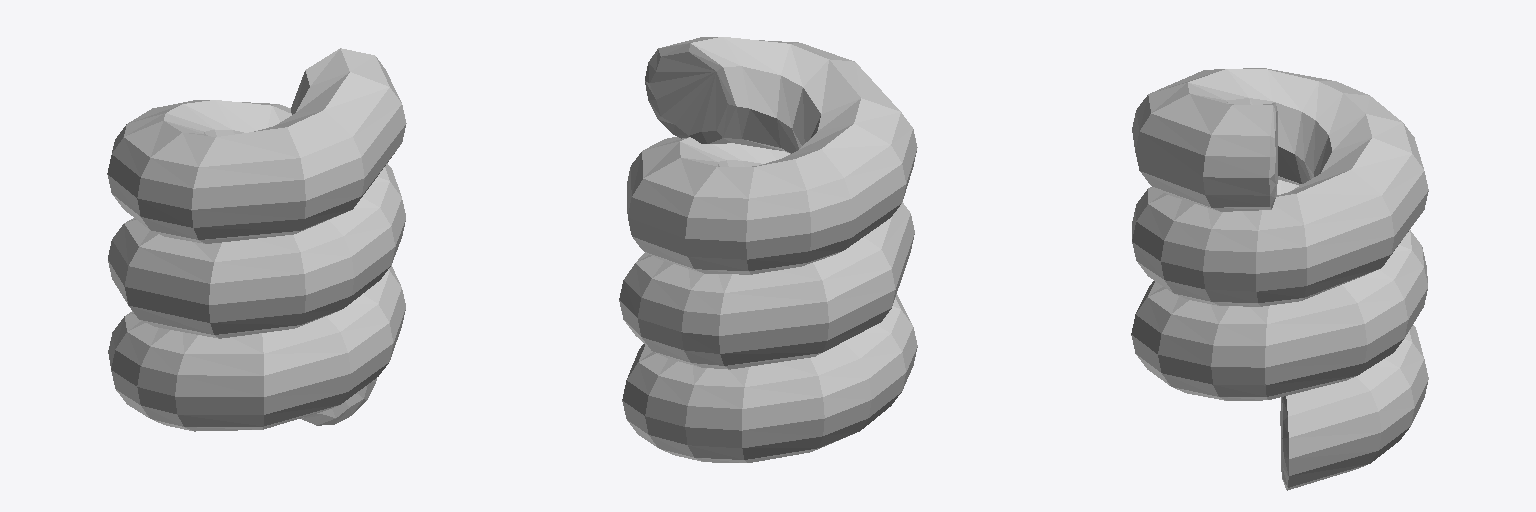
The model's file is helix_97.5.obj.
The picture shows the model from 3 angles: view 1: azimuth 30°, elevation 25°; view 2: azimuth 150°, elevation 25°; view 3: azimuth 270°, elevation 25°; orthographic projection.
Parts seen in each view (by area): view 1: helix:pHelix1; view 2: helix:pHelix1; view 3: helix:pHelix1.
Boxes of the visible parts, <box> form: helix:pHelix1: <box>107,48,406,431</box>; helix:pHelix1: <box>619,37,917,462</box>; helix:pHelix1: <box>1131,68,1428,490</box>.
Bounding box in the file's own units: 1.92 × 2.7 × 1.91.